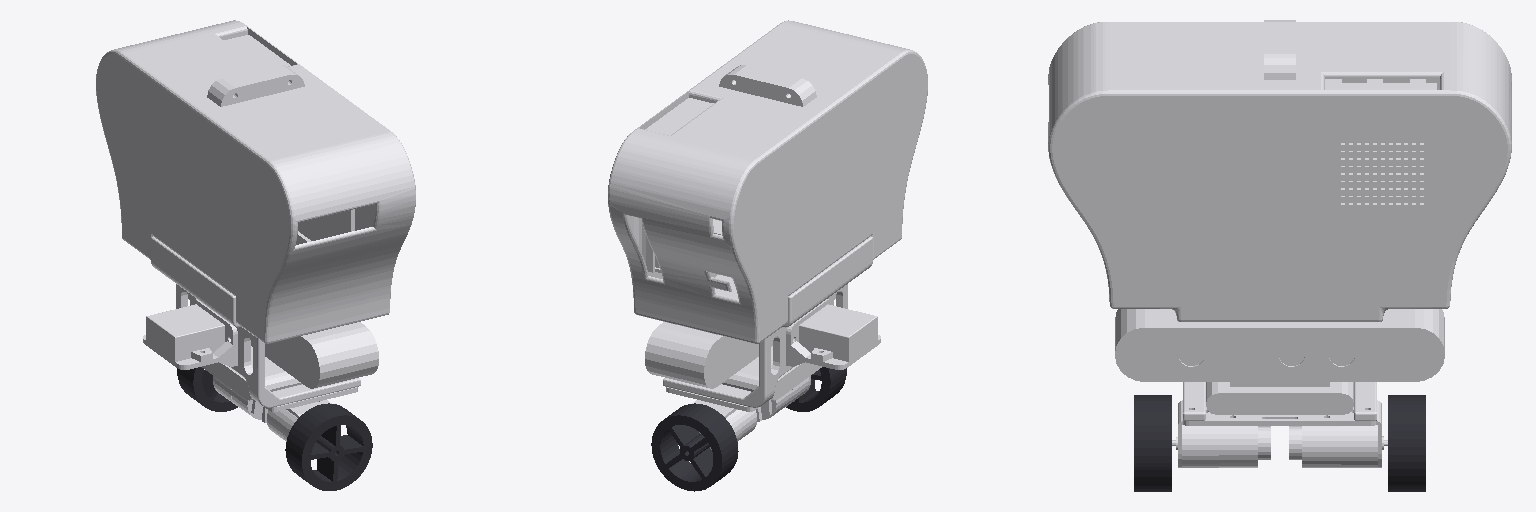
URDF robot description (balance_bot):
<?xml version="1.0" encoding="utf-8"?>
<!--
  balance_bot mesh 版 URDF —— 基于 SW2URDF 1.6.0 导出结果修正：
    1. 左右轮互换（导出时 left/right 命名反了，左轮应在 +Y）
    2. right_wheel 惯量为 0 → 复用左轮数值（轮子对称）
    3. joint 改名 *_joint，轮轴 axis 统一为 0 1 0（正转 = 前进）
    4. mesh 路径包名 balance_bot → balance_bot_description
    5. 补传感器 frame：imu_link / camera_link / camera_optical_frame

  调试用简版（纯几何体）在 balance_bot.urdf，display.launch.py 里换文件名即可切换。
-->
<robot name="balance_bot">

  <link name="base_link">
    <inertial>
      <!-- 2026-07-17 重导出更新：IMU移位后的质检属性 -->
      <origin xyz="-0.0077169 0.0055384 0.10081" rpy="0 0 0" />
      <mass value="0.84853" />
      <inertia ixx="0.0018185" ixy="2.0008E-06" ixz="3.4067E-05"
               iyy="0.0011604" iyz="2.6639E-05" izz="0.0014323" />
    </inertial>
    <visual>
      <origin xyz="0 0 0" rpy="0 0 0" />
      <geometry>
        <mesh filename="package://balance_bot_description/meshes/base_link.STL" />
      </geometry>
      <material name="body_white">
        <color rgba="0.92 0.92 0.94 1" />
      </material>
    </visual>
    <collision>
      <origin xyz="0 0 0" rpy="0 0 0" />
      <geometry>
        <mesh filename="package://balance_bot_description/meshes/base_link.STL" />
      </geometry>
    </collision>
  </link>

  <!-- ============ 左轮（+Y 侧） ============ -->
  <link name="left_wheel">
    <inertial>
      <origin xyz="0 0 0" rpy="0 0 0" />
      <mass value="0.019376" />
      <inertia ixx="4.194E-06" ixy="0" ixz="0"
               iyy="7.2222E-06" iyz="0" izz="4.194E-06" />
    </inertial>
    <visual>
      <origin xyz="0 0 0" rpy="0 0 0" />
      <geometry>
        <mesh filename="package://balance_bot_description/meshes/left_wheel.STL" />
      </geometry>
      <material name="wheel_dark">
        <color rgba="0.25 0.25 0.28 1" />
      </material>
    </visual>
    <collision>
      <origin xyz="0 0 0" rpy="0 0 0" />
      <geometry>
        <mesh filename="package://balance_bot_description/meshes/left_wheel.STL" />
      </geometry>
    </collision>
  </link>

  <joint name="left_wheel_joint" type="continuous">
    <origin xyz="0 0.0635 0" rpy="0 0 0" />
    <parent link="base_link" />
    <child link="left_wheel" />
    <axis xyz="0 1 0" />
  </joint>

  <!-- ============ 右轮（-Y 侧） ============ -->
  <link name="right_wheel">
    <inertial>
      <origin xyz="0 0 0" rpy="0 0 0" />
      <mass value="0.019376" />
      <inertia ixx="4.194E-06" ixy="0" ixz="0"
               iyy="7.2222E-06" iyz="0" izz="4.194E-06" />
    </inertial>
    <visual>
      <origin xyz="0 0 0" rpy="0 0 0" />
      <geometry>
        <mesh filename="package://balance_bot_description/meshes/right_wheel.STL" />
      </geometry>
      <material name="wheel_dark">
        <color rgba="0.25 0.25 0.28 1" />
      </material>
    </visual>
    <collision>
      <origin xyz="0 0 0" rpy="0 0 0" />
      <geometry>
        <mesh filename="package://balance_bot_description/meshes/right_wheel.STL" />
      </geometry>
    </collision>
  </link>

  <joint name="right_wheel_joint" type="continuous">
    <origin xyz="0 -0.0635 0" rpy="0 0 0" />
    <parent link="base_link" />
    <child link="right_wheel" />
    <axis xyz="0 1 0" />
  </joint>

  <!-- ============ IMU（frame 手写，几何已含在 base_link mesh 内） ============ -->
  <link name="imu_link" />

  <joint name="imu_joint" type="fixed">
    <parent link="base_link" />
    <child link="imu_link" />
    <!-- xyz 大致即可；rpy 必须按 HFI-A9 芯片丝印轴向填：
         板上 X 指车头且 Z 朝上 → 0 0 0；其他安装方向要改 -->
    <origin xyz="0 0 0.05" rpy="0 0 0" />
  </joint>

  <!-- ============ 深度相机 Orbbec Astra ============ -->
  <link name="camera_link" />

  <joint name="camera_joint" type="fixed">
    <parent link="base_link" />
    <child link="camera_link" />
    <!-- SW实测：坐标系1原点 → Astra红外接收镜头中心 (2026-07-17)
         y为镜头偏离车体中线的横向偏移；若镜头实际偏在车体右侧(-Y)，把y改负 -->
    <origin xyz="0.022 0.0059 0.0594" rpy="0 0 0" />
  </joint>

  <!-- 光学坐标系（Z朝前/X朝右的图像约定），rpy 固定值永不修改 -->
  <link name="camera_optical_frame" />

  <joint name="camera_optical_joint" type="fixed">
    <parent link="camera_link" />
    <child link="camera_optical_frame" />
    <origin xyz="0 0 0" rpy="-1.5708 0 -1.5708" />
  </joint>

</robot>

--- Facts derived from the render (not from the file) ---
Views: 3 orthographic renders of the robot side by side, from view 1: azimuth 30°, elevation 25°; view 2: azimuth 150°, elevation 25°; view 3: azimuth 270°, elevation 25°.
Model balance_bot with 6 links and 5 joints (2 continuous, 3 fixed), rooted at base_link, posed all joints at 0.
Links seen in each view (by area): view 1: base_link, right_wheel, left_wheel; view 2: base_link, left_wheel, right_wheel; view 3: base_link, left_wheel, right_wheel.
Link boxes in pixels (<box>): base_link: <box>96,20,415,441</box>; right_wheel: <box>285,403,372,490</box>; left_wheel: <box>177,367,237,411</box>; base_link: <box>608,20,927,449</box>; left_wheel: <box>651,403,738,491</box>; right_wheel: <box>786,367,846,411</box>; base_link: <box>1048,20,1511,467</box>; left_wheel: <box>1388,395,1425,491</box>; right_wheel: <box>1134,395,1171,491</box>.
Bounding box of the posed robot: 0.108 × 0.2313 × 0.2412 m (x, y, z).
Meshes: 3 distinct files referenced, 3 mesh visuals loaded (3 binary STL).
